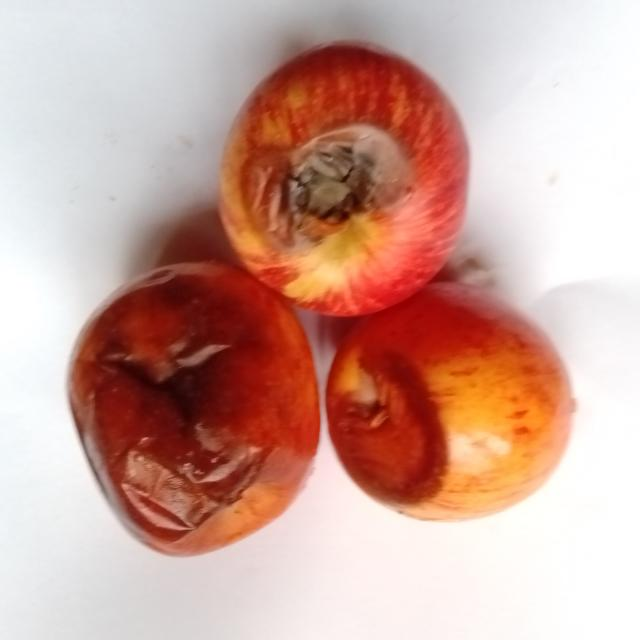apple: (70, 263, 319, 554), (221, 43, 468, 315), (327, 283, 573, 520)
